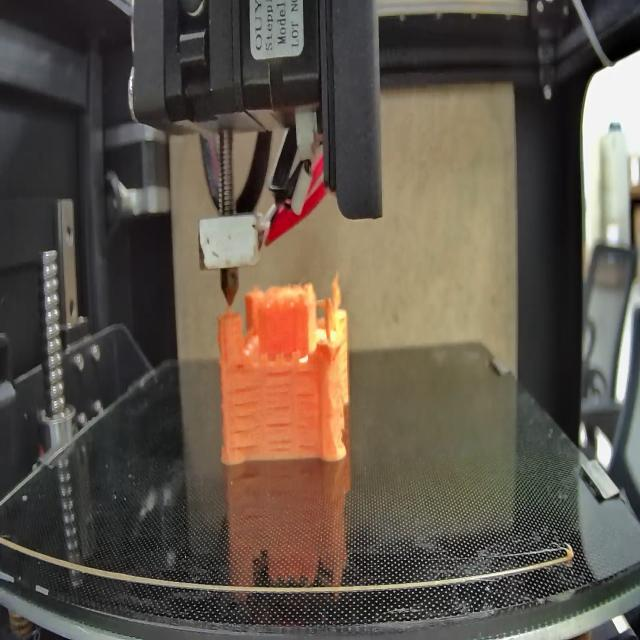cracks: (264, 371, 293, 454), (298, 362, 318, 450), (234, 385, 258, 456), (234, 360, 247, 374)
